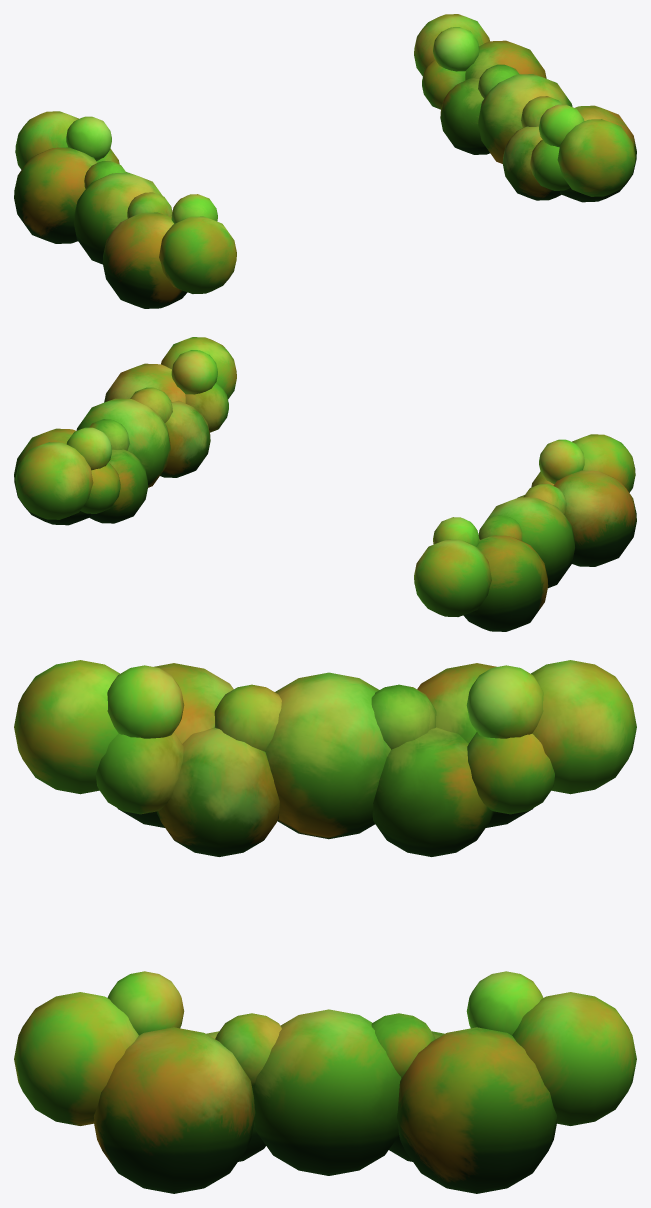
Rendered from Foliage.fbx.
3 views of the same model, one above another, from view 1: azimuth 30°, elevation 25°; view 2: azimuth 150°, elevation 25°; view 3: azimuth 270°, elevation 25° (orthographic). The views are drawn at different scales.
Parts seen in each view (by area): view 1: Foliage (2); view 2: Foliage (2); view 3: Foliage (2).
Boxes of the visible parts, x1,y1,x2,y2 form: Foliage (2): (14, 14, 636, 308); Foliage (2): (14, 337, 636, 631); Foliage (2): (14, 660, 636, 1193).
Bounding box in the file's own units: 4439 × 868 × 2694.
1 material, 1 textured.
